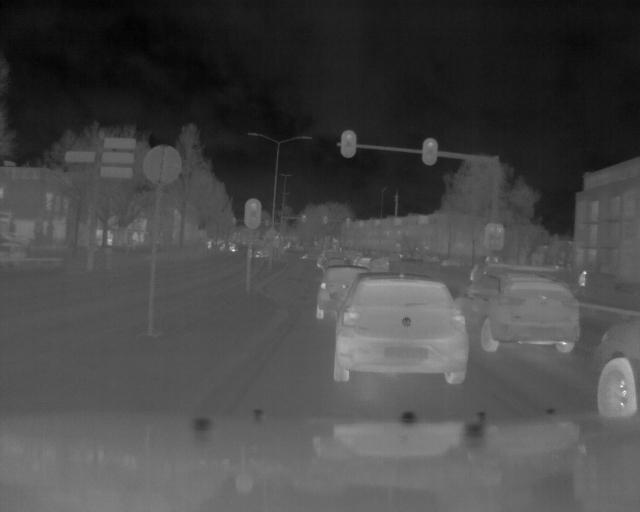car: (334, 273, 472, 388), (453, 262, 584, 359), (313, 266, 381, 327)
